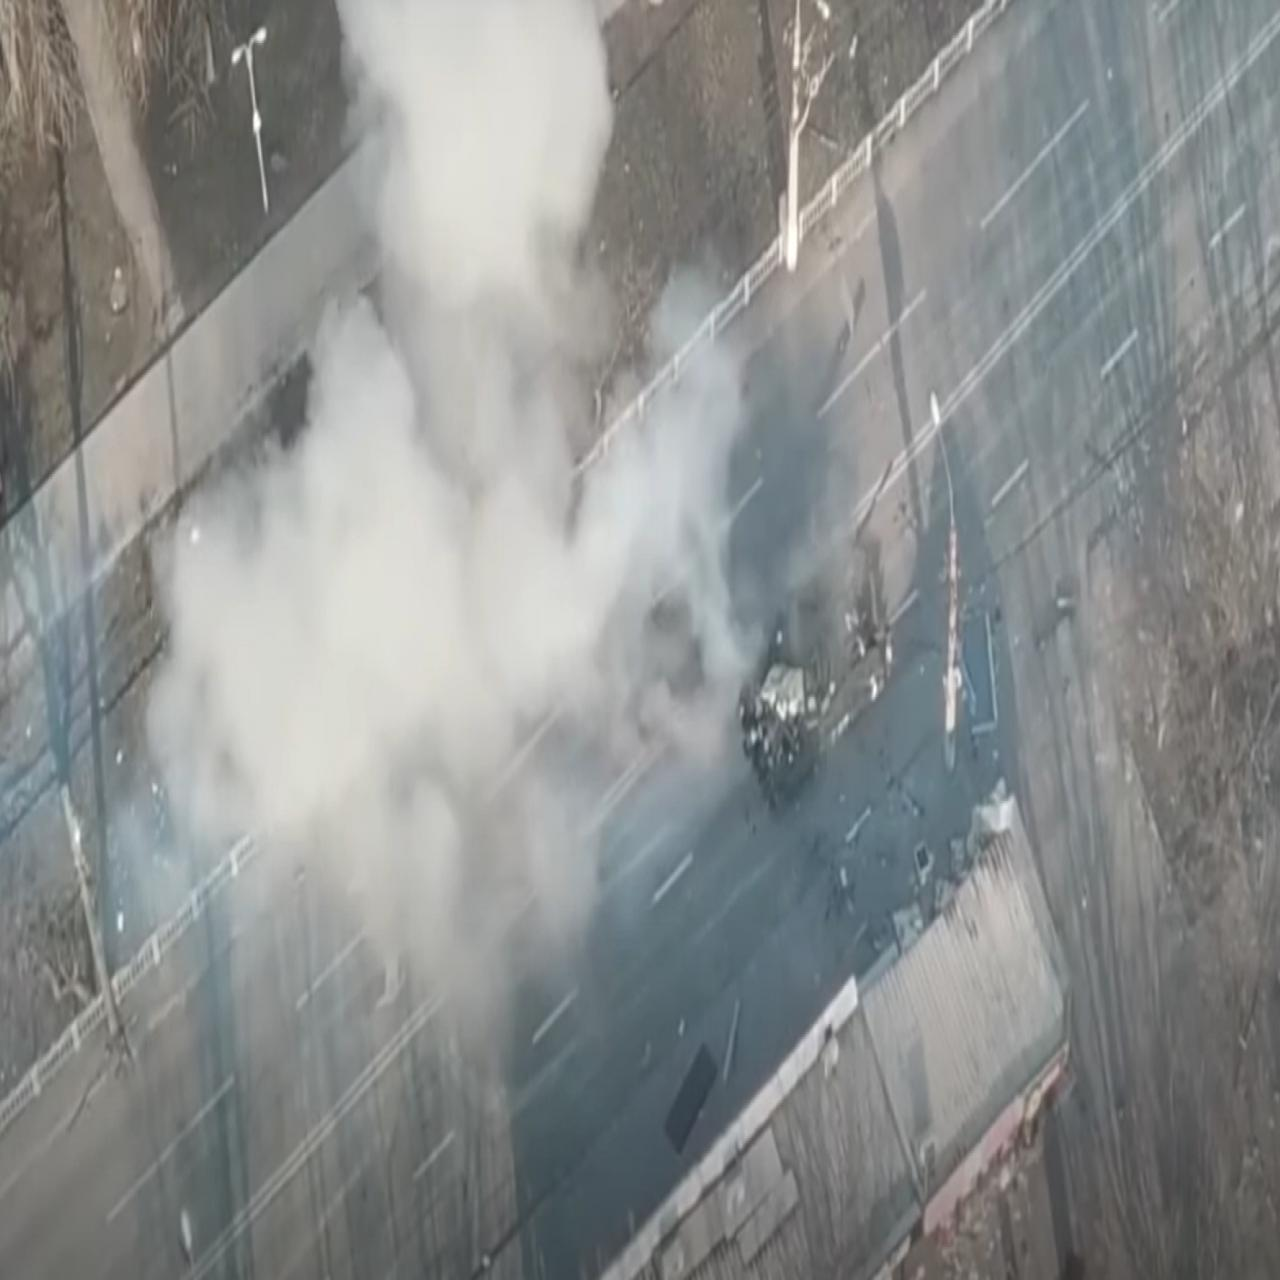MIL_Veh: (727, 557, 887, 795)
